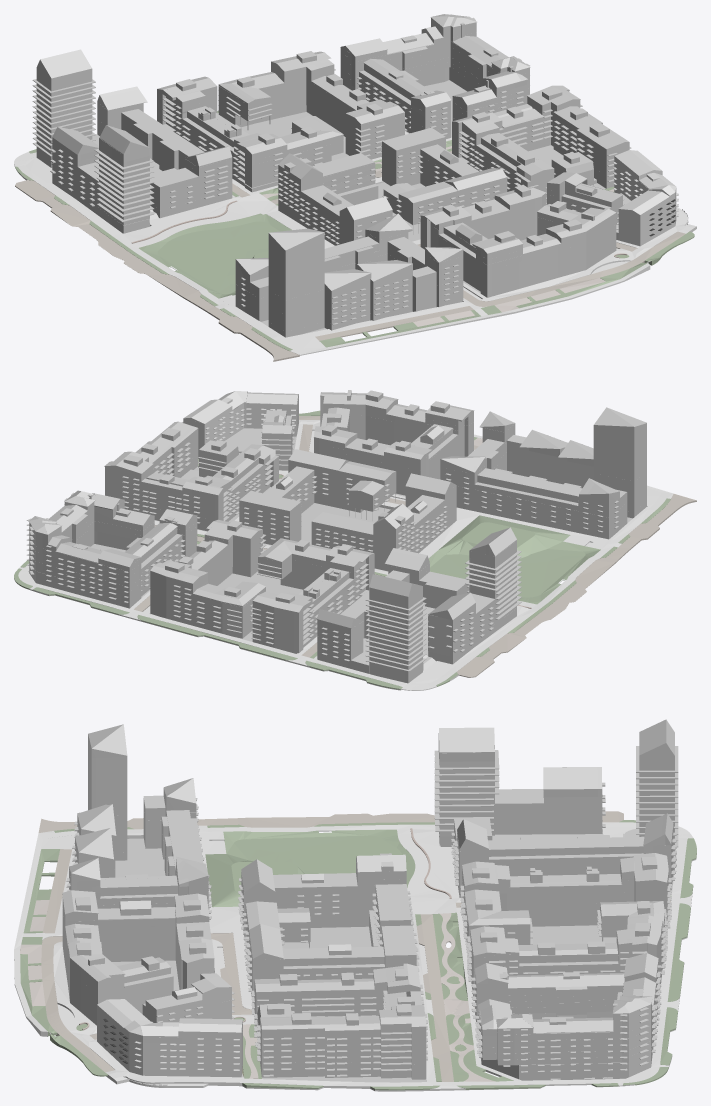
The model's file is storängen 1.fbx.
3 views of the same model, one above another, from view 1: azimuth 30°, elevation 25°; view 2: azimuth 150°, elevation 25°; view 3: azimuth 270°, elevation 25° (orthographic). The views are drawn at different scales.
Visible parts, largest first — view 1: Cube.013, Cube.012, Cube.011, Cube, Cube.007, Cube.003, Cube.008, Cube.009, Cube.010, IfcBuildingElementProxy/Y1.050, Cube.004, IfcBuildingElementProxy/Y1.079 (+11 smaller); view 2: Cube.012, Cube.013, Cube, Cube.011, Cube.007, Cube.008, Cube.003, Cube.010, Cube.009, IfcBuildingElementProxy/Y1.050, IfcBuildingElementProxy/Y1.087, IfcBuildingElementProxy/Y1.079 (+11 smaller); view 3: Cube.013, Cube, Cube.007, Cube.012, Cube.011, IfcBuildingElementProxy/Y1.087, Cube.008, Cube.009, Cube.003, Cube.010, Cube.004, IfcBuildingElementProxy/Y1.050 (+16 smaller).
Part boxes in pixels (<box>): Cube.013: <box>32,49,232,233</box>; Cube.012: <box>235,213,463,337</box>; Cube.011: <box>420,184,616,297</box>; Cube: <box>340,14,530,138</box>; Cube.007: <box>452,85,631,204</box>; Cube.003: <box>218,51,404,159</box>; Cube.008: <box>157,76,343,192</box>; Cube.009: <box>278,153,392,245</box>; Cube.010: <box>381,127,507,234</box>; IfcBuildingElementProxy/Y1.050: <box>139,213,291,298</box>; Cube.004: <box>613,150,678,246</box>; IfcBuildingElementProxy/Y1.079: <box>15,180,299,361</box>; Cube.012: <box>440,407,646,539</box>; Cube.013: <box>317,527,521,683</box>; Cube: <box>26,490,197,608</box>; Cube.011: <box>314,390,474,495</box>; Cube.007: <box>104,421,278,531</box>; Cube.008: <box>251,538,374,653</box>; Cube.003: <box>150,519,266,638</box>; Cube.010: <box>239,449,396,544</box>; Cube.009: <box>311,473,456,571</box>; IfcBuildingElementProxy/Y1.050: <box>428,515,600,604</box>; IfcBuildingElementProxy/Y1.087: <box>18,420,474,690</box>; IfcBuildingElementProxy/Y1.079: <box>457,494,696,677</box>; Cube.013: <box>434,719,678,897</box>; Cube: <box>471,953,661,1080</box>; Cube.007: <box>251,963,427,1079</box>; Cube.012: <box>66,724,211,919</box>; Cube.011: <box>62,890,214,1025</box>; IfcBuildingElementProxy/Y1.087: <box>53,838,696,1091</box>; Cube.008: <box>460,853,671,952</box>; Cube.009: <box>238,853,413,946</box>; Cube.003: <box>467,901,667,1000</box>; Cube.010: <box>243,901,419,1002</box>; Cube.004: <box>97,999,242,1077</box>; IfcBuildingElementProxy/Y1.050: <box>205,829,415,907</box>.
Bounding box in the file's own units: 29722 × 6045 × 30903.
